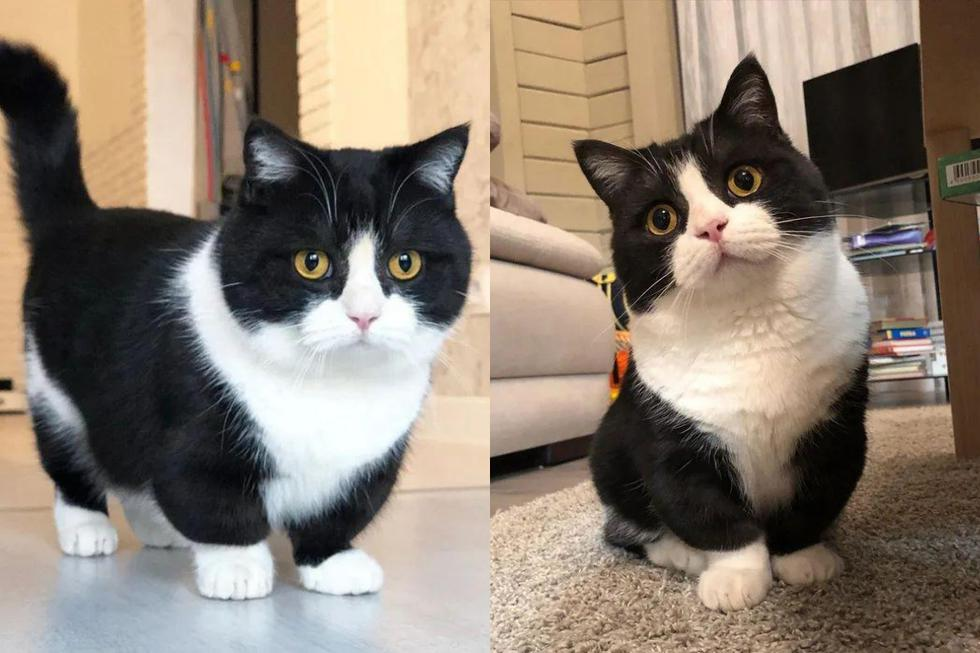cat: (33, 76, 474, 596), (552, 103, 884, 598)
